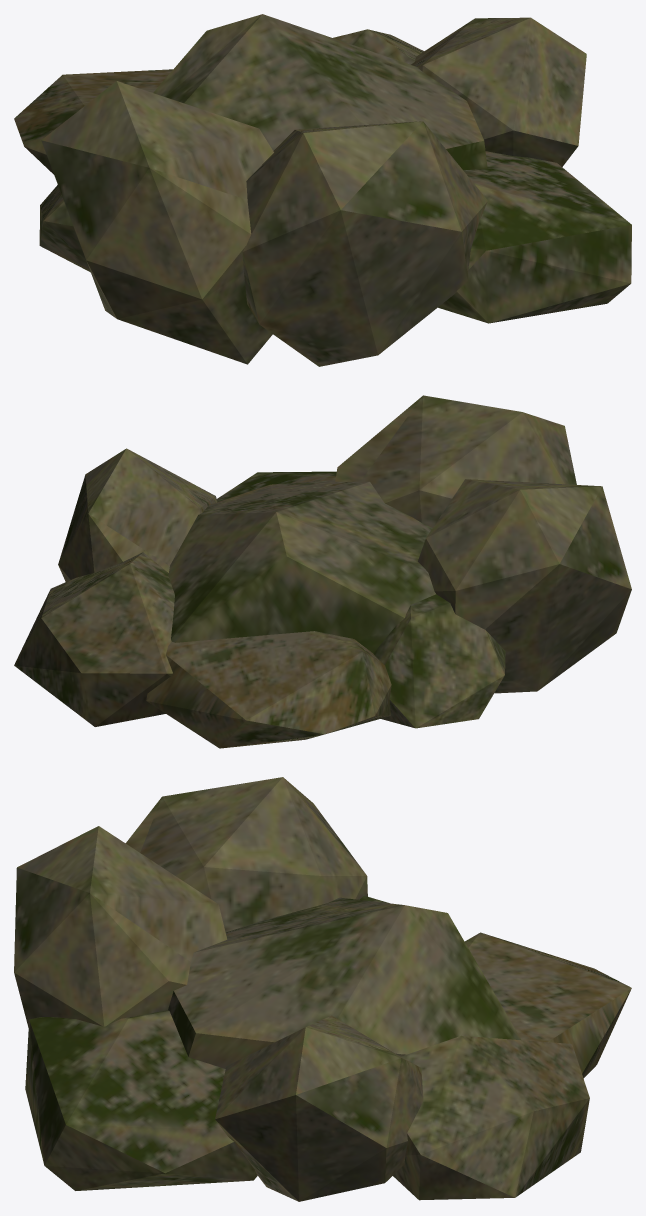
Rendered from mossy rocks5.fbx.
3 renders of one model, top to bottom at view 1: azimuth 30°, elevation 25°; view 2: azimuth 150°, elevation 25°; view 3: azimuth 270°, elevation 25°, orthographic. The views are drawn at different scales.
Visible parts, largest first — view 1: Mossy_Rock_Group9_M_Mossy_Rock_0; view 2: Mossy_Rock_Group9_M_Mossy_Rock_0; view 3: Mossy_Rock_Group9_M_Mossy_Rock_0.
Boxes of the visible parts, x1,y1,x2,y2 form: Mossy_Rock_Group9_M_Mossy_Rock_0: (14,14,631,366); Mossy_Rock_Group9_M_Mossy_Rock_0: (14,395,631,748); Mossy_Rock_Group9_M_Mossy_Rock_0: (14,777,631,1201).
Size of the model in its own units: 158 by 67.25 by 157.
Materials: 1 (1 with a texture image).
